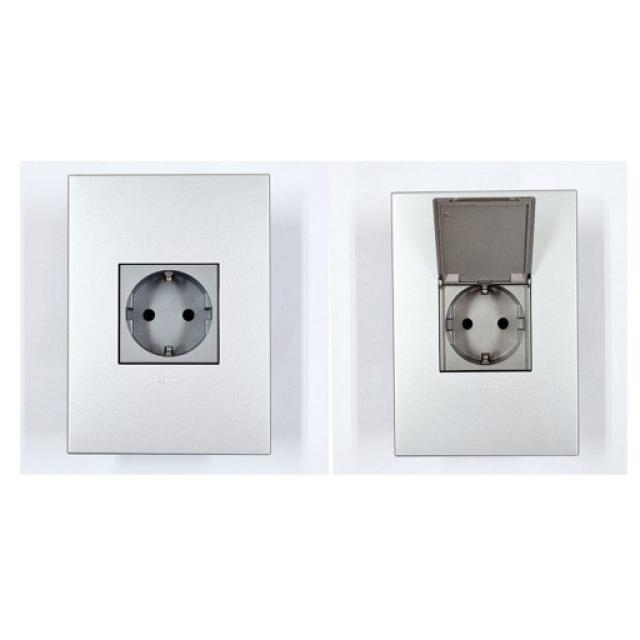typeb: (360, 160, 630, 476), (32, 170, 294, 476)
